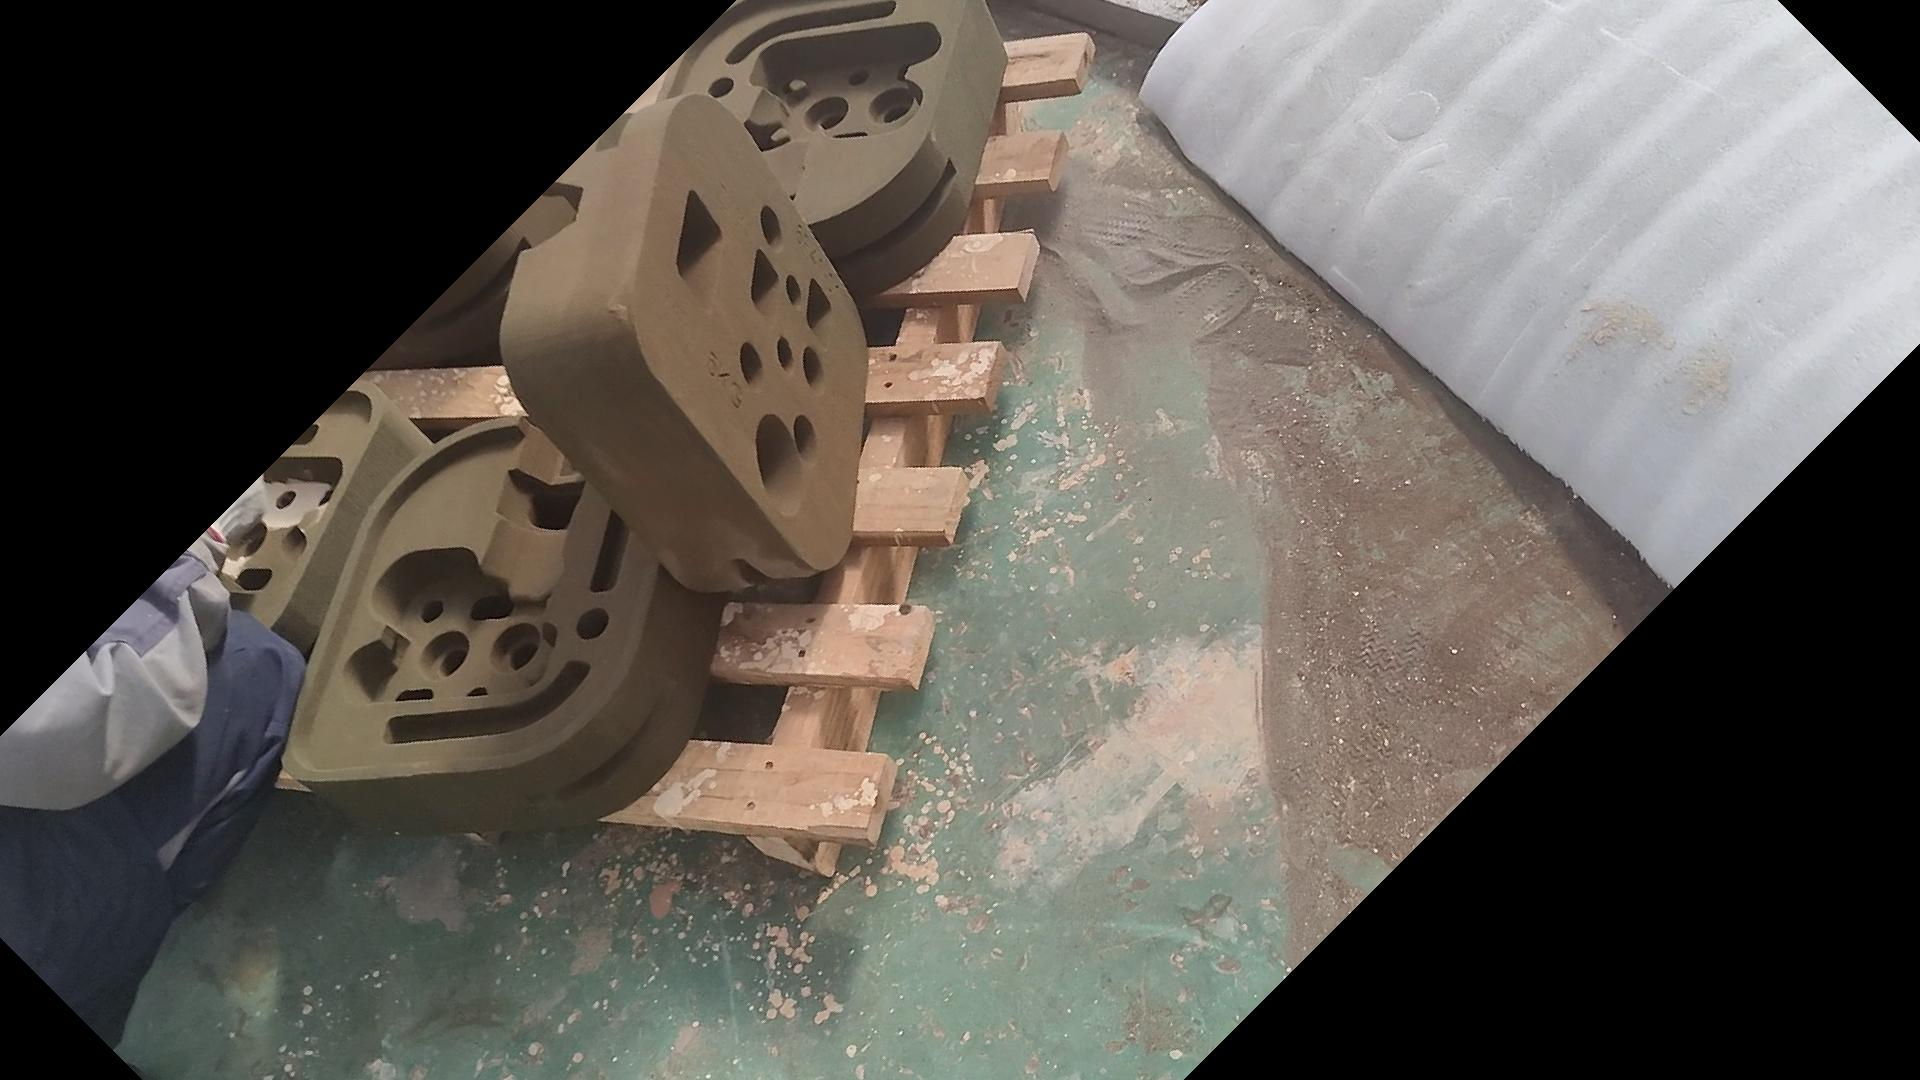pouring hole: (757, 414, 804, 518)
